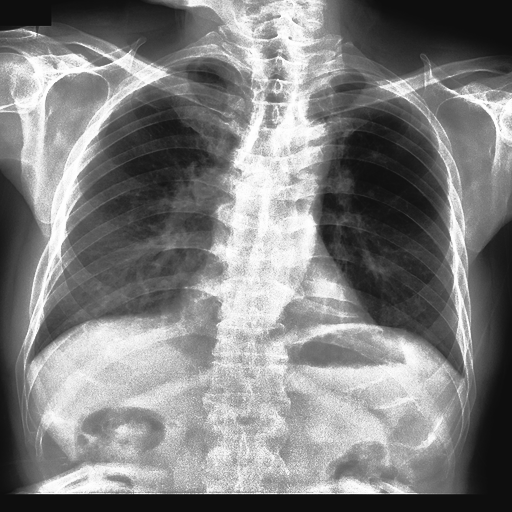Calcification: (161, 55, 242, 77), (308, 68, 395, 88)
Consolidation: (279, 119, 334, 166)
Pleural thickening: (70, 209, 189, 319)
Pneumothorax: (353, 107, 397, 165), (132, 95, 165, 112), (322, 80, 338, 97)
